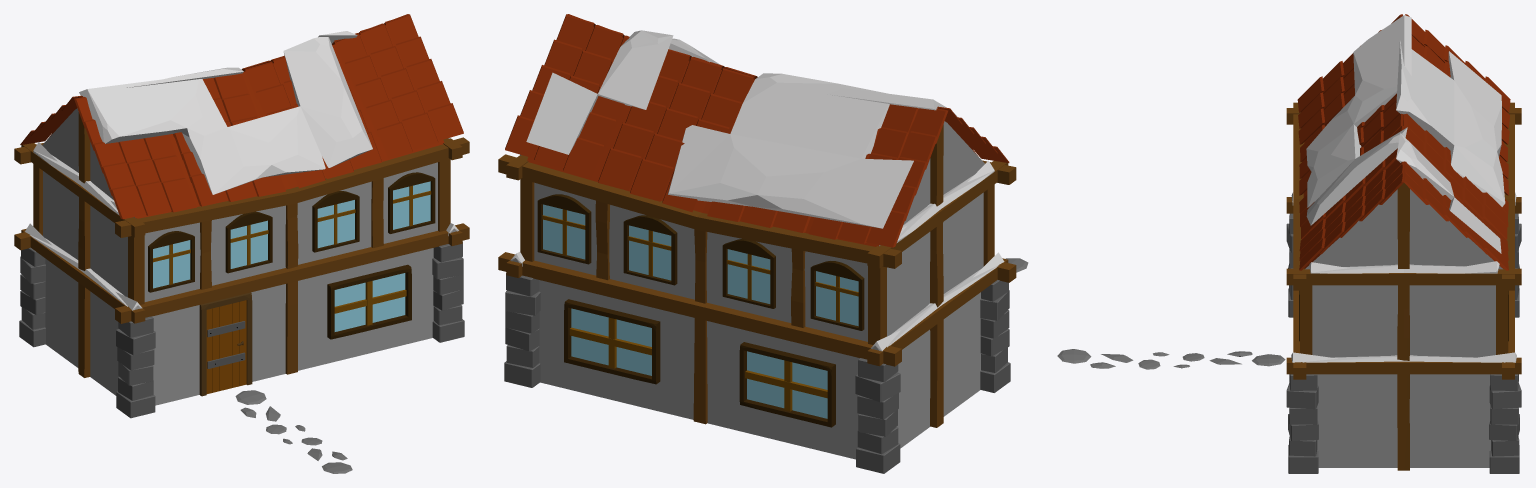
Rendered from House_07_Merged.fbx.
The picture shows the model from 3 angles, left to right: view 1: azimuth 30°, elevation 25°; view 2: azimuth 150°, elevation 25°; view 3: azimuth 270°, elevation 25°; orthographic projection. The views are drawn at different scales.
Visible parts, largest first — view 1: House_07_Merged; view 2: House_07_Merged; view 3: House_07_Merged.
Part boxes in pixels (bbox=[...]): House_07_Merged: bbox=[14, 14, 469, 473]; House_07_Merged: bbox=[498, 14, 1028, 473]; House_07_Merged: bbox=[1057, 14, 1521, 473].
Bounding box in the file's own units: 684 × 541 × 762.
